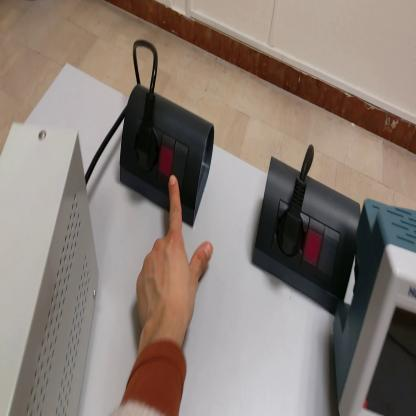hand: (134, 173, 212, 344)
oscilloscope: (333, 198, 416, 414)
power supply: (257, 160, 361, 318)
socket: (121, 83, 216, 226)
